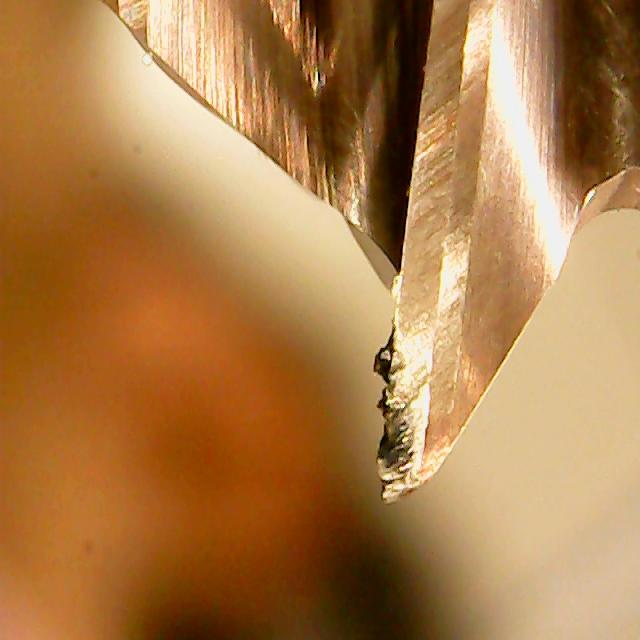Tool-wear-class-1: (361, 162, 472, 515)
